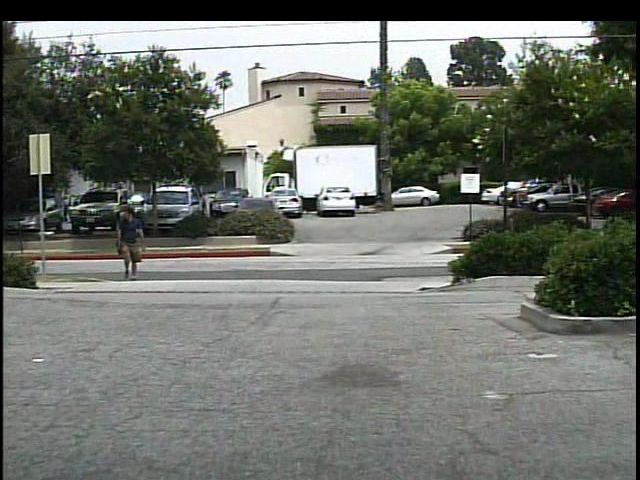person: (114, 206, 148, 284)
